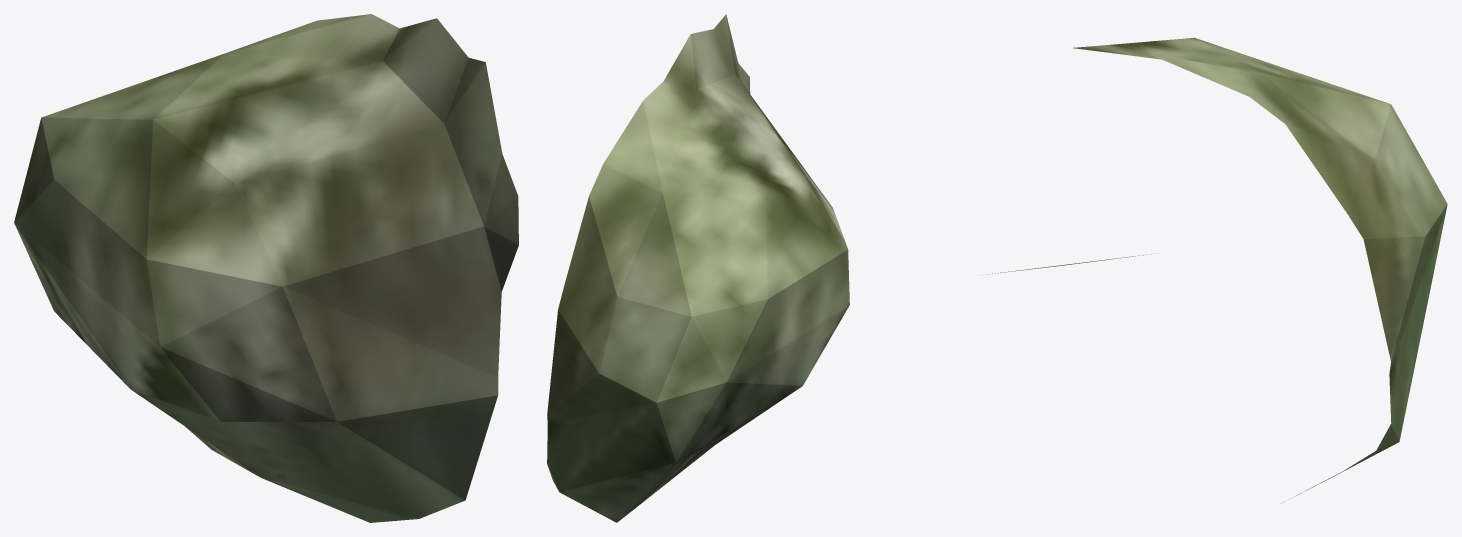
The picture shows the model from 3 angles, left to right: view 1: azimuth 30°, elevation 25°; view 2: azimuth 150°, elevation 25°; view 3: azimuth 270°, elevation 25°; orthographic projection. The views are drawn at different scales.
Bounding box in the file's own units: 0.2491 × 0.5204 × 0.5276.
Materials: 1 (1 with a texture image).
